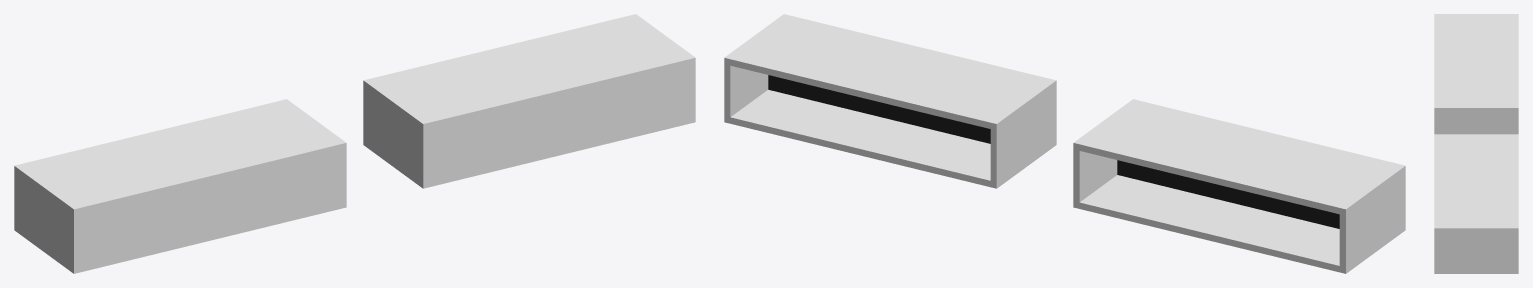
The model's file is exhaust1.glb.
3 views of the same model, side by side, from view 1: azimuth 30°, elevation 25°; view 2: azimuth 150°, elevation 25°; view 3: azimuth 270°, elevation 25° (orthographic). The views are drawn at different scales.
Visible parts, largest first — view 1: exhaust1; view 2: exhaust1; view 3: exhaust1.
Part boxes in pixels (x1,y1,x2,y2): exhaust1: (14, 14, 695, 273); exhaust1: (724, 14, 1405, 273); exhaust1: (1434, 14, 1518, 273).
Bounding box in the file's own units: 1.26 × 0.1249 × 0.2093.
Materials: 1 (1 with a texture image).
